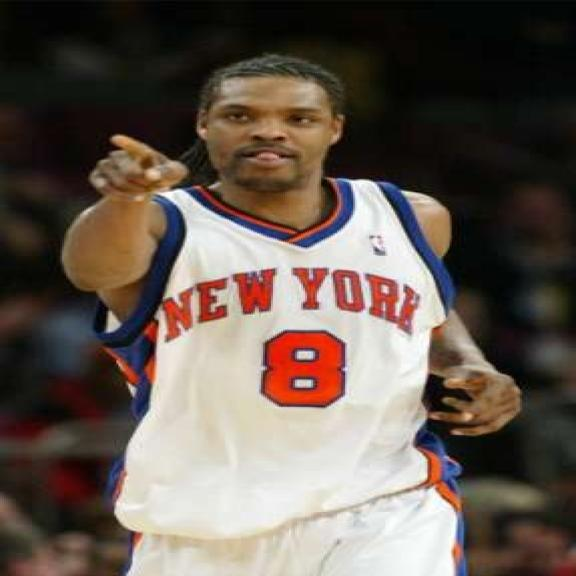face: (189, 78, 348, 199)
